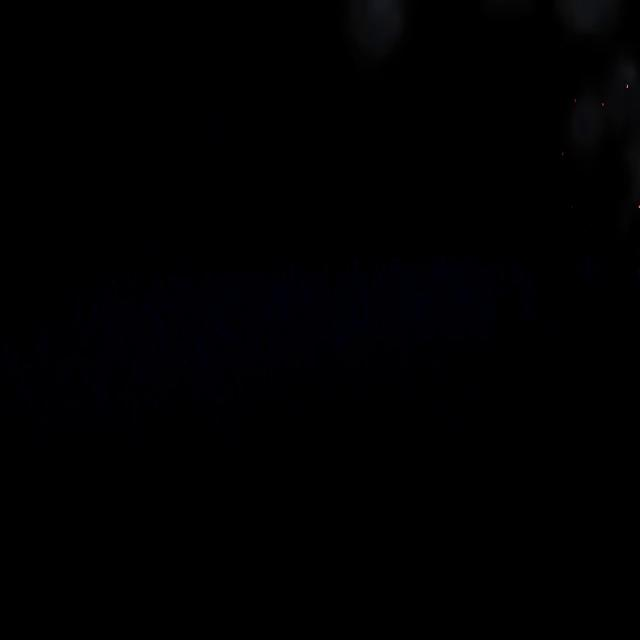smoke: (537, 1, 639, 322), (344, 0, 412, 50)
